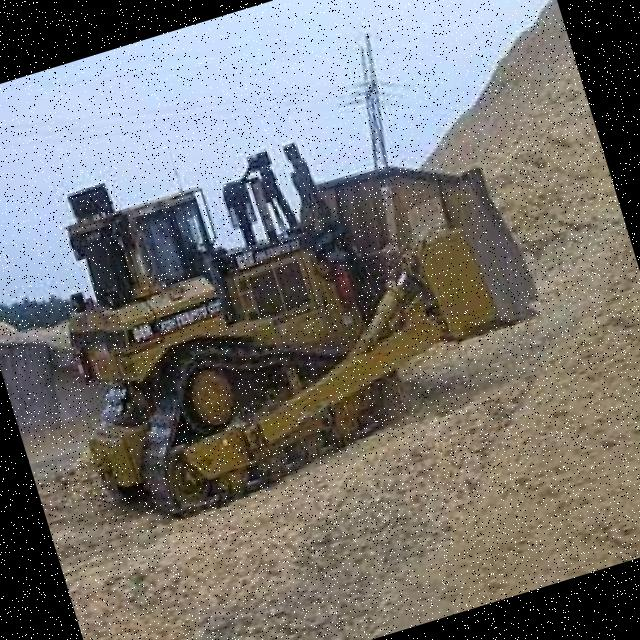Bulldozer: (7, 42, 586, 569)
